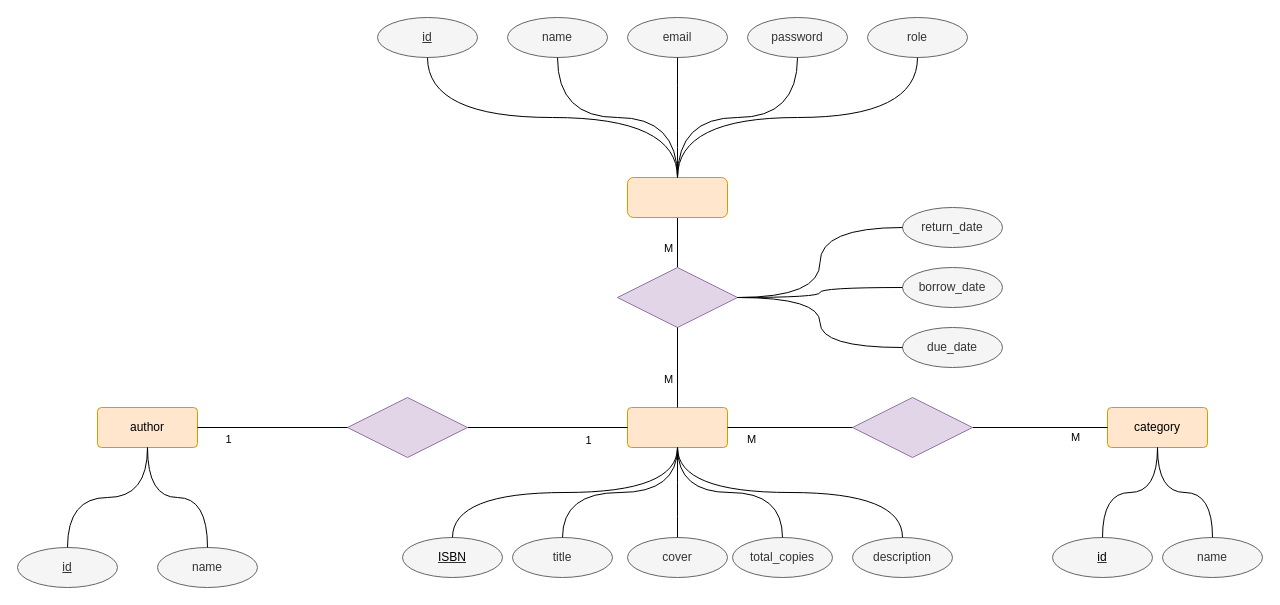
This 1280x605 diagram has some shape labels left out. The shapes that lost their labels are listed below. From the top down, each one's centre as x and y in pixels, then its label:
the point at 677,197: User
the point at 677,297: borrow
the point at 407,427: writes
the point at 677,427: book
the point at 912,427: has a
